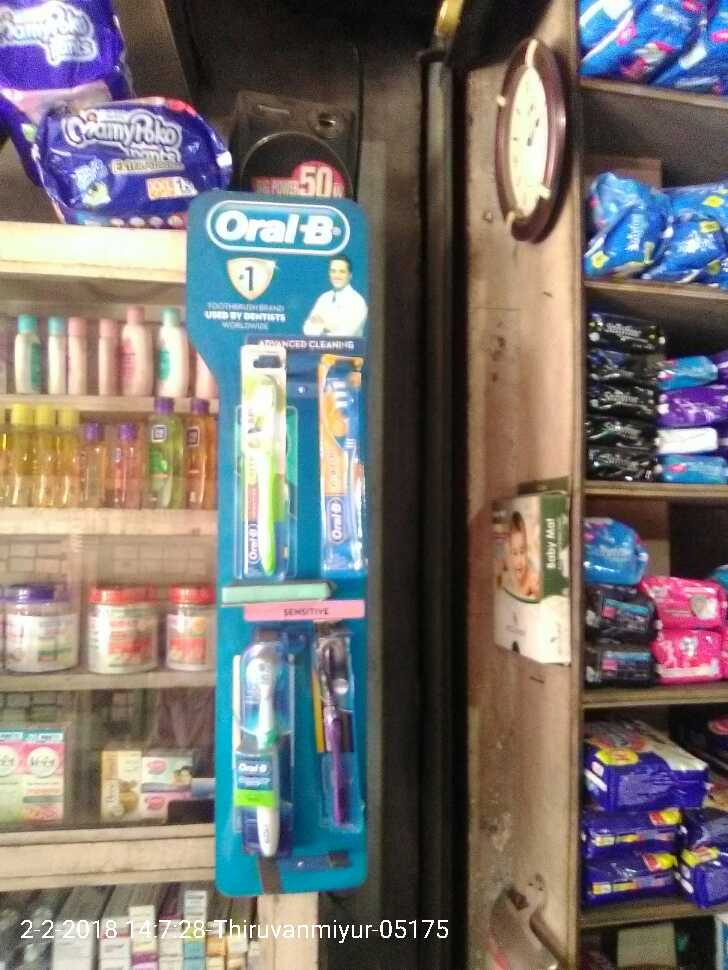oralb: (236, 636, 297, 857), (318, 355, 361, 593), (307, 646, 364, 825), (252, 364, 288, 589)
